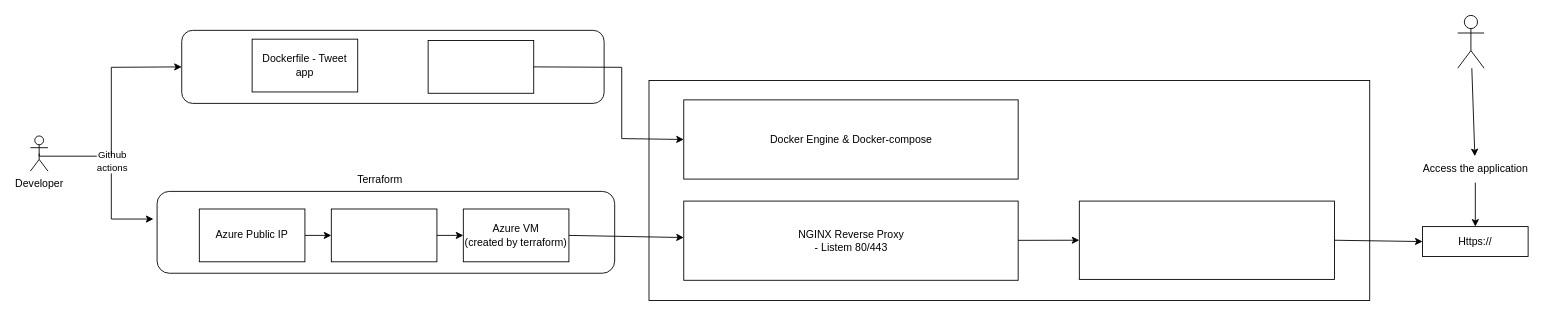
This 1552x316 diagram has some shape labels left out. Here are the shapes that lost their labels. From the top down, the box of each, then its label:
(1457, 15, 1484, 68): User
(427, 40, 534, 93): Push the image to dockerhub
(330, 208, 437, 262): Azure NSG (Firewall) Inbound Ports: 80,443
(1078, 200, 1335, 279): Certificate for signing (certbot)
